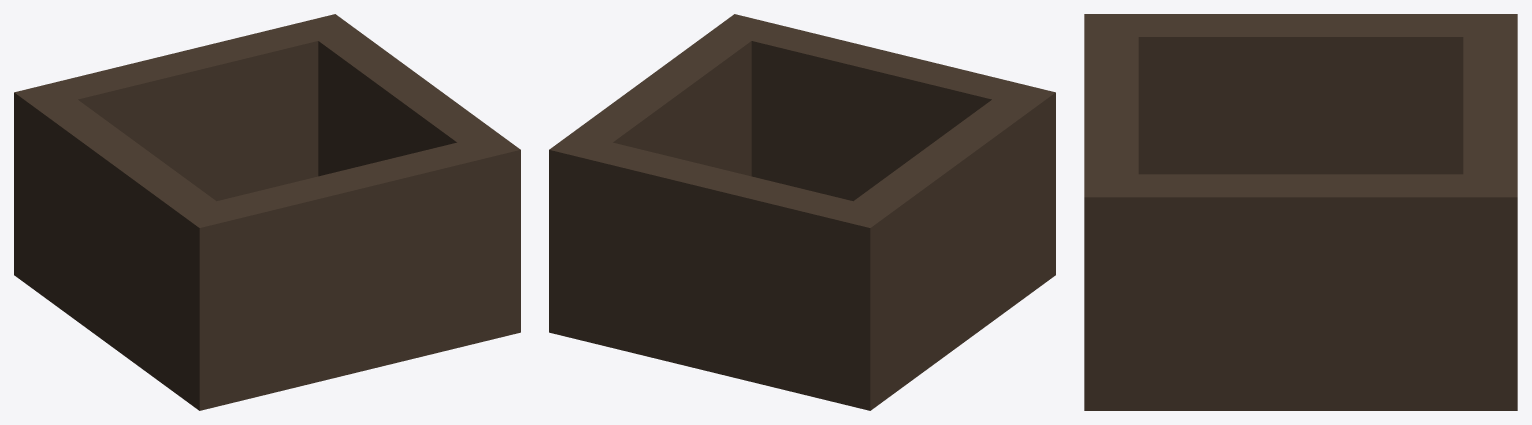
The model's file is Item_Equipment_Legs_BasicTrousers.fbx.
3 views of the same model, side by side, from view 1: azimuth 30°, elevation 25°; view 2: azimuth 150°, elevation 25°; view 3: azimuth 270°, elevation 25° (orthographic). The views are drawn at different scales.
Visible parts, largest first — view 1: Item_Gear_Legs_BasicTrousers; view 2: Item_Gear_Legs_BasicTrousers; view 3: Item_Gear_Legs_BasicTrousers.
Boxes of the visible parts, x1,y1,x2,y2 form: Item_Gear_Legs_BasicTrousers: (14, 14, 520, 410); Item_Gear_Legs_BasicTrousers: (549, 14, 1055, 410); Item_Gear_Legs_BasicTrousers: (1084, 14, 1517, 410).
Bounding box in the file's own units: 1.59 × 0.8668 × 1.59.
